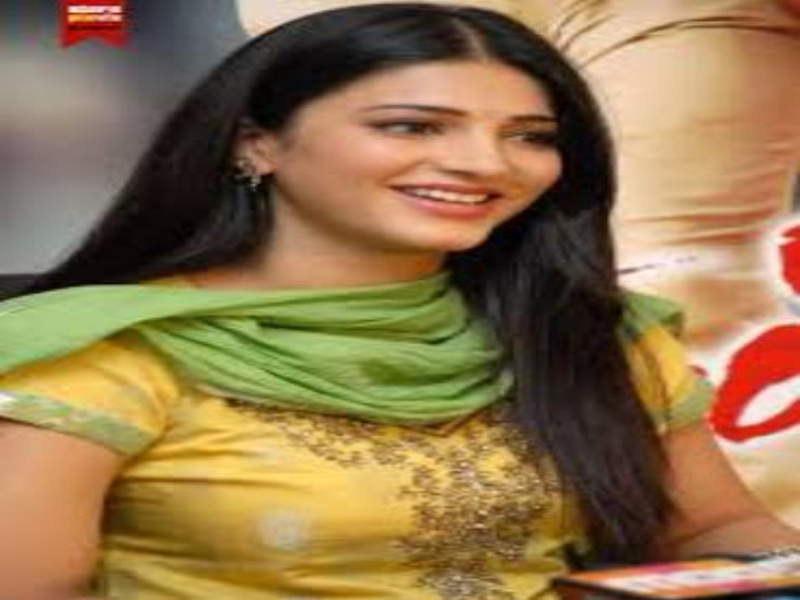TsisyArotava: (292, 28, 600, 272)
